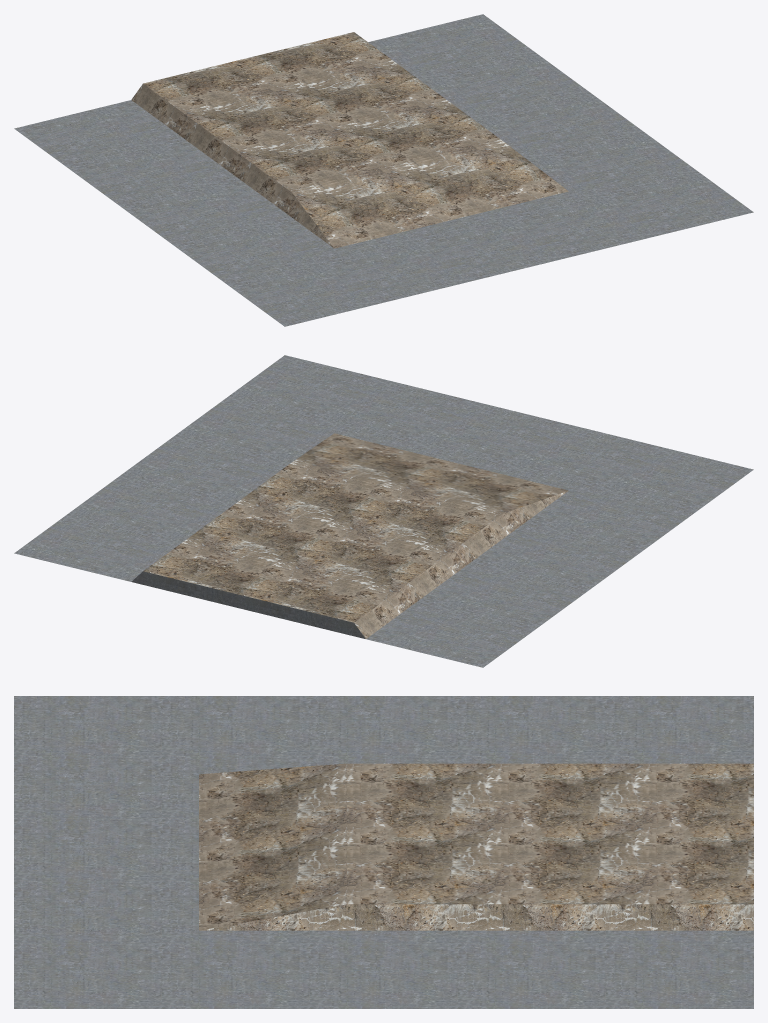
3 views of the same model, one above another, from view 1: azimuth 30°, elevation 25°; view 2: azimuth 150°, elevation 25°; view 3: azimuth 270°, elevation 25° (orthographic). The views are drawn at different scales.
Visible parts, largest first — view 1: TexturesCom_ConcreteBare0398_7_seamless_S, TexturesCom_ConcreteRough0076_1_seamless_S; view 2: TexturesCom_ConcreteBare0398_7_seamless_S, TexturesCom_ConcreteRough0076_1_seamless_S; view 3: TexturesCom_ConcreteBare0398_7_seamless_S, TexturesCom_ConcreteRough0076_1_seamless_S.
Boxes of the visible parts, <box> form: TexturesCom_ConcreteBare0398_7_seamless_S: <box>14,14,753,326</box>; TexturesCom_ConcreteRough0076_1_seamless_S: <box>131,32,568,248</box>; TexturesCom_ConcreteBare0398_7_seamless_S: <box>14,355,753,667</box>; TexturesCom_ConcreteRough0076_1_seamless_S: <box>143,433,568,638</box>; TexturesCom_ConcreteBare0398_7_seamless_S: <box>14,696,753,1008</box>; TexturesCom_ConcreteRough0076_1_seamless_S: <box>199,763,753,930</box>.
Bounding box in the file's own units: 5 × 0.1384 × 5.
Materials: 2 (2 with a texture image).
